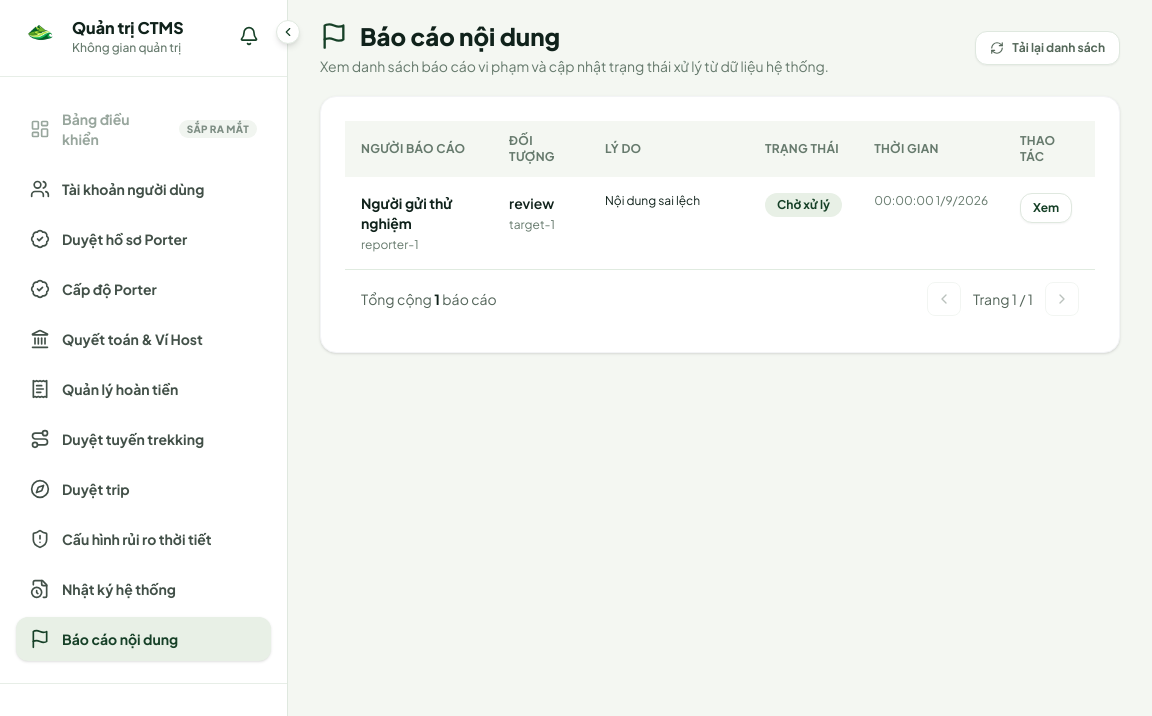
Content Reports Admin UI › reviewing offers only Actioned and Rejected
The image size is (1152, 716).
Click the button "Xem". click: (1046, 208)
box: [1020,193,1072,223]
(page scrolled)
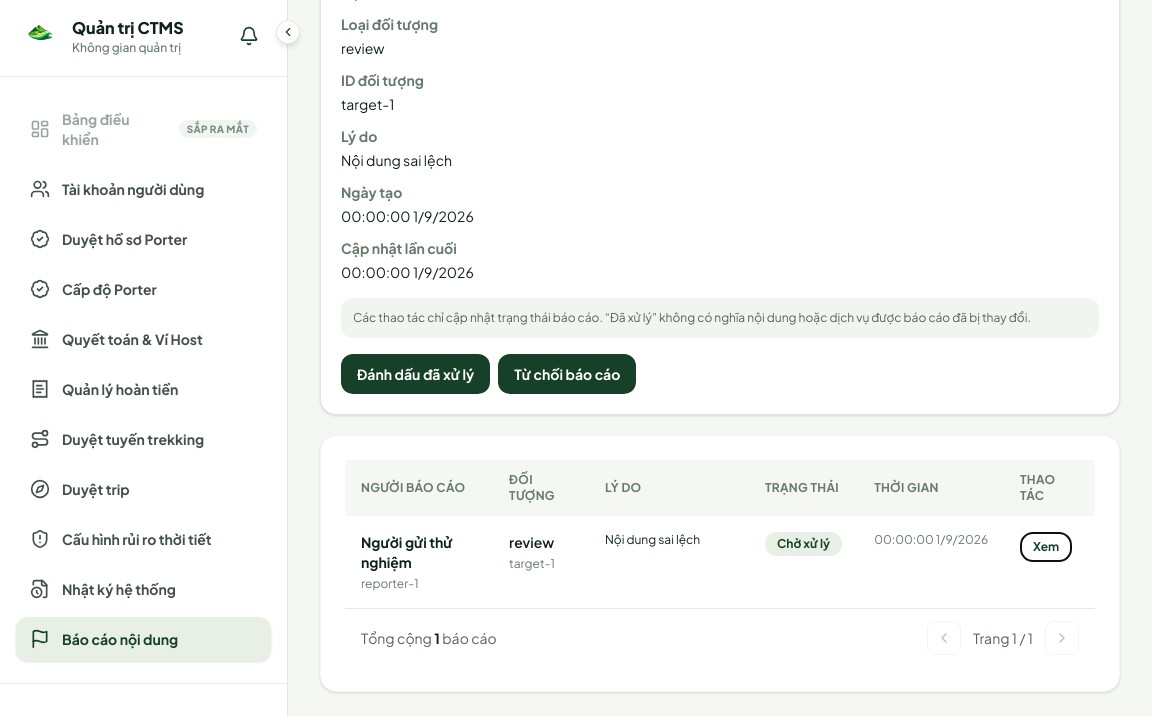
Check: the text "Nội dung sai lệch" below "ID đối tượng" is shown, box [341,151,452,169]
Check: the button "Đánh dấu đã xử lý" is enabled, box [341,354,490,394]
Check: the button "Từ chối báo cáo" is enabled, box [498,354,636,394]
